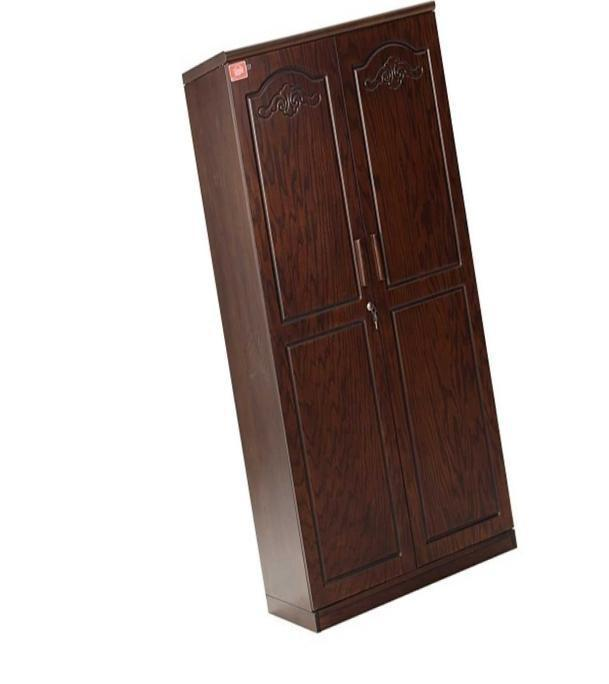Armario: (180, 0, 518, 637)
